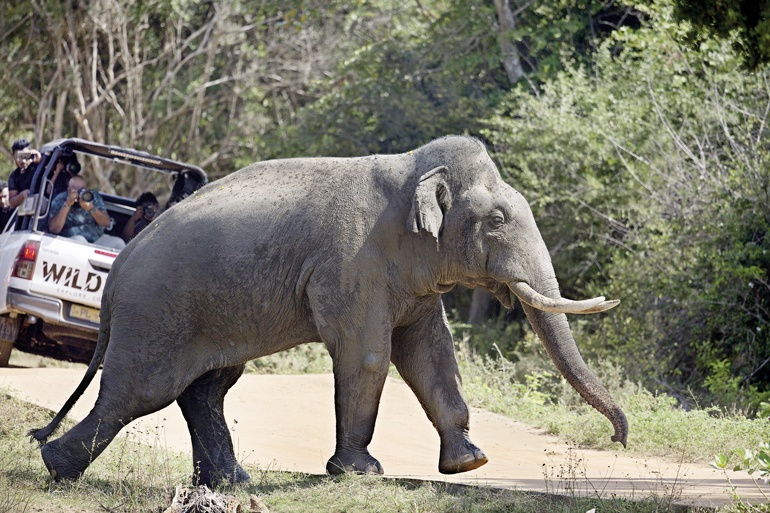elephant: (31, 133, 630, 486)
